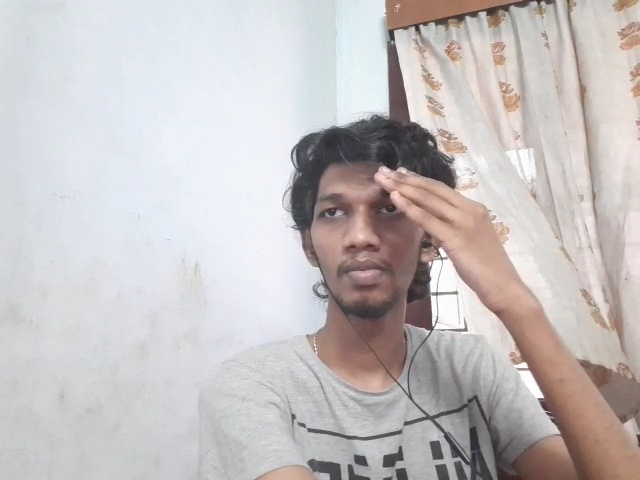Welcome: (373, 164, 533, 310)
